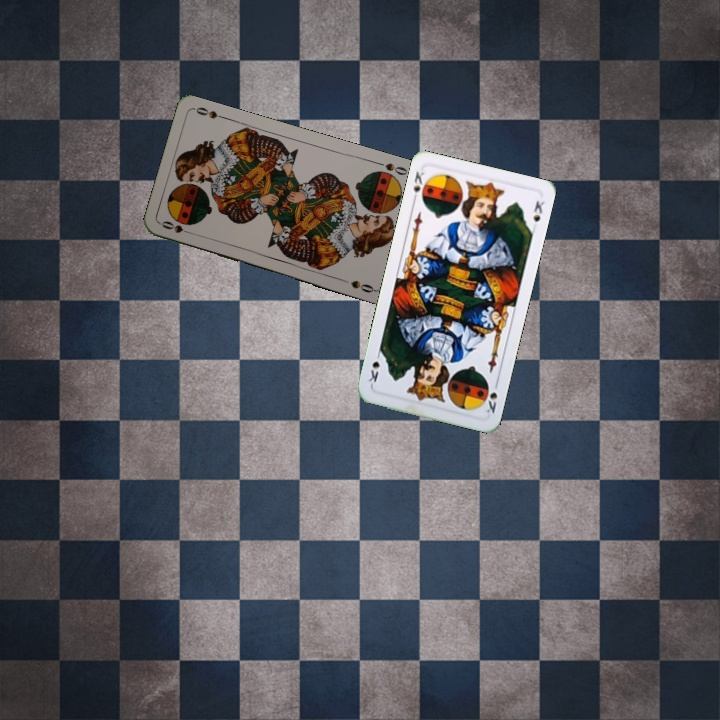SK: (409, 167, 431, 205), (482, 377, 501, 416)
SO: (157, 217, 197, 237), (372, 158, 412, 178)
